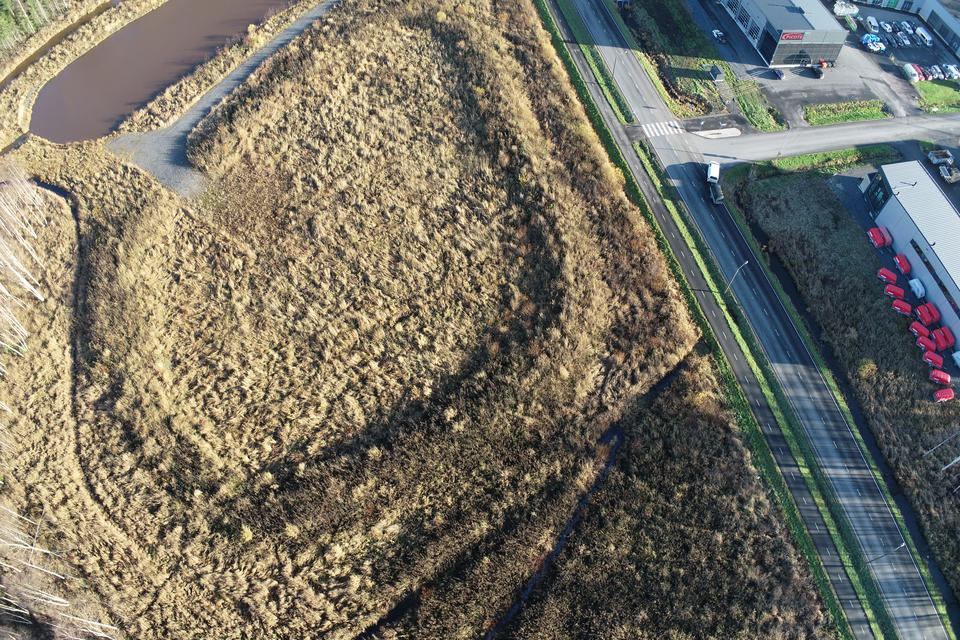intersection: (566, 101, 771, 199)
